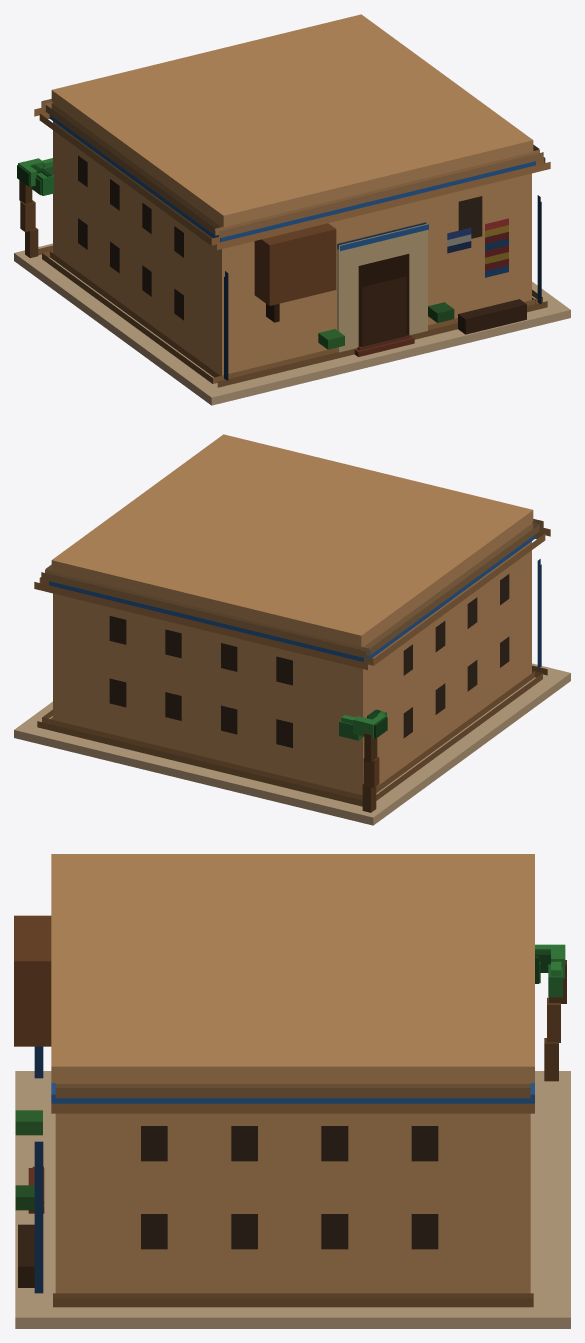
The model's file is CobraFountainSil.fbx.
3 renders of one model, top to bottom at view 1: azimuth 30°, elevation 25°; view 2: azimuth 150°, elevation 25°; view 3: azimuth 270°, elevation 25°, orthographic. The views are drawn at different scales.
Parts seen in each view (by area): view 1: MQ_S_All; view 2: MQ_S_All; view 3: MQ_S_All.
Boxes of the visible parts, x1,y1,x2,y2 form: MQ_S_All: [14, 14, 570, 405]; MQ_S_All: [14, 434, 570, 825]; MQ_S_All: [14, 854, 570, 1328].
Size of the model in its own units: 42.04 by 19.5 by 40.14.
